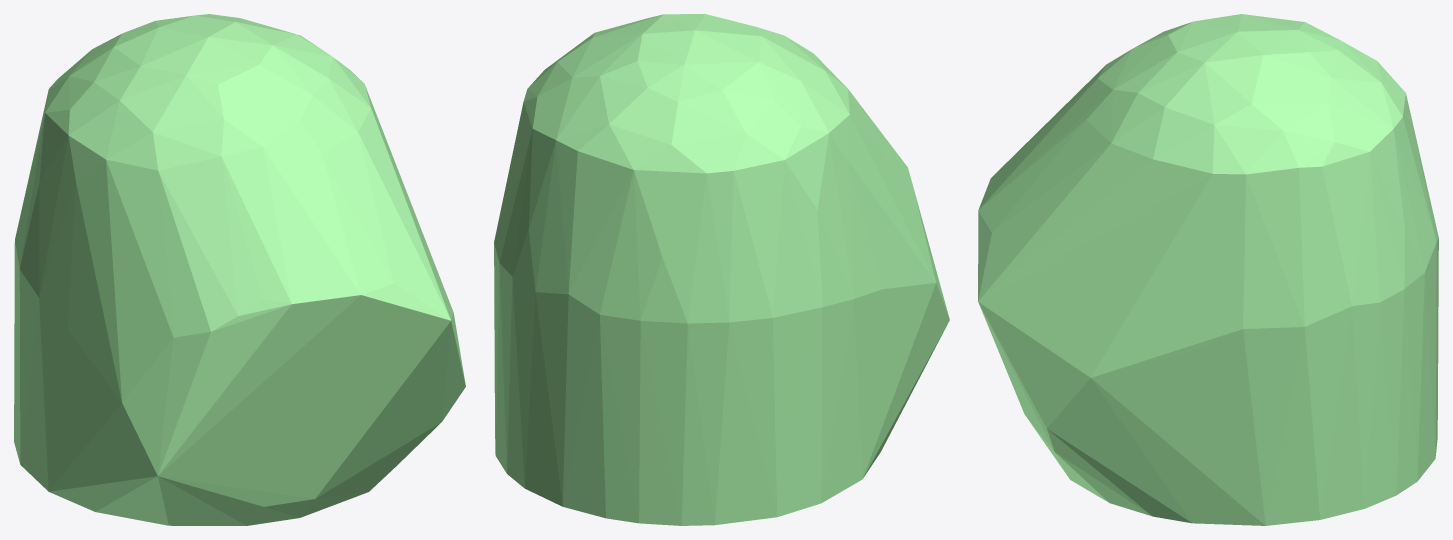
File: exported_panda_link3_resp_coll_2.dae
3 views of the same model, side by side, from view 1: azimuth 30°, elevation 25°; view 2: azimuth 150°, elevation 25°; view 3: azimuth 270°, elevation 25° (orthographic).
Parts seen in each view (by area): view 1: node; view 2: node; view 3: node.
Boxes of the visible parts, box(x1,y1,x2,y2) form: node: box(14, 14, 465, 525); node: box(494, 14, 949, 525); node: box(978, 14, 1438, 525).
Bounding box in the file's own units: 0.11 × 0.1289 × 0.131.
